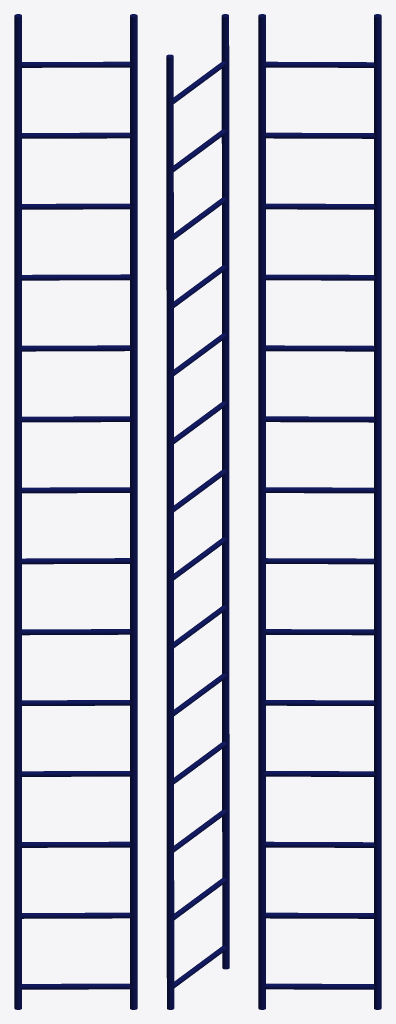
File: ladder.glb
The picture shows the model from 3 angles, left to right: view 1: azimuth 90°, elevation 25°; view 2: azimuth 150°, elevation 25°; view 3: azimuth 270°, elevation 25°; orthographic projection. The views are drawn at different scales.
Visible parts, largest first — view 1: Object_2; view 2: Object_2; view 3: Object_2.
Boxes of the visible parts, x1,y1,x2,y2 form: Object_2: [14, 14, 137, 1009]; Object_2: [166, 14, 229, 1009]; Object_2: [258, 14, 381, 1009].
Size of the model in its own units: 2.14 by 285 by 32.
